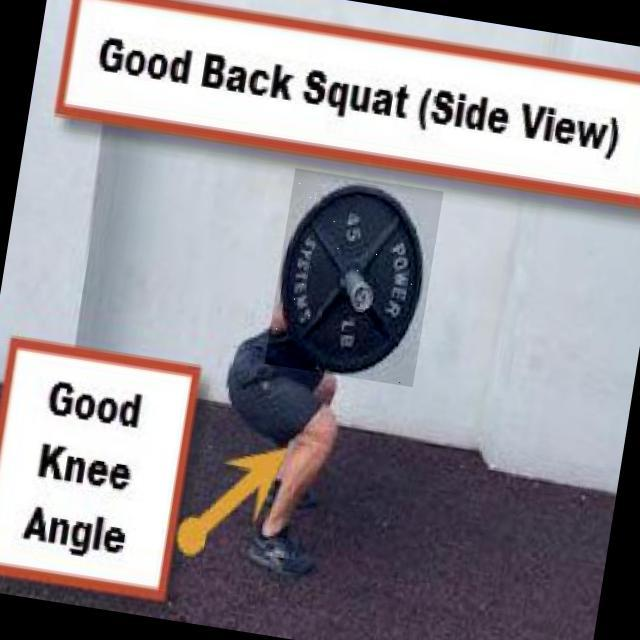barbell: (266, 170, 445, 389)
